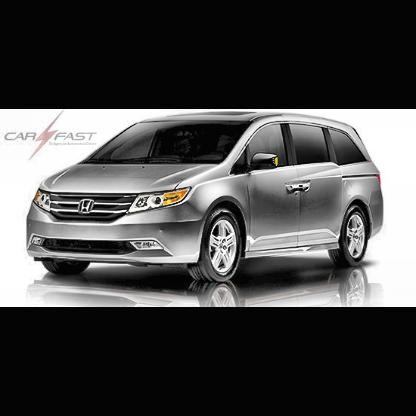Honda Odyssey Minivan 2012: (25, 110, 387, 287)
